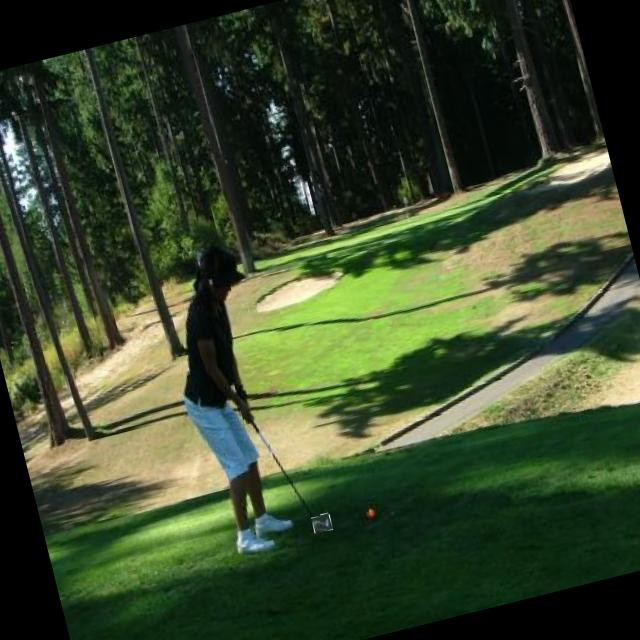club head: (311, 512, 333, 534)
